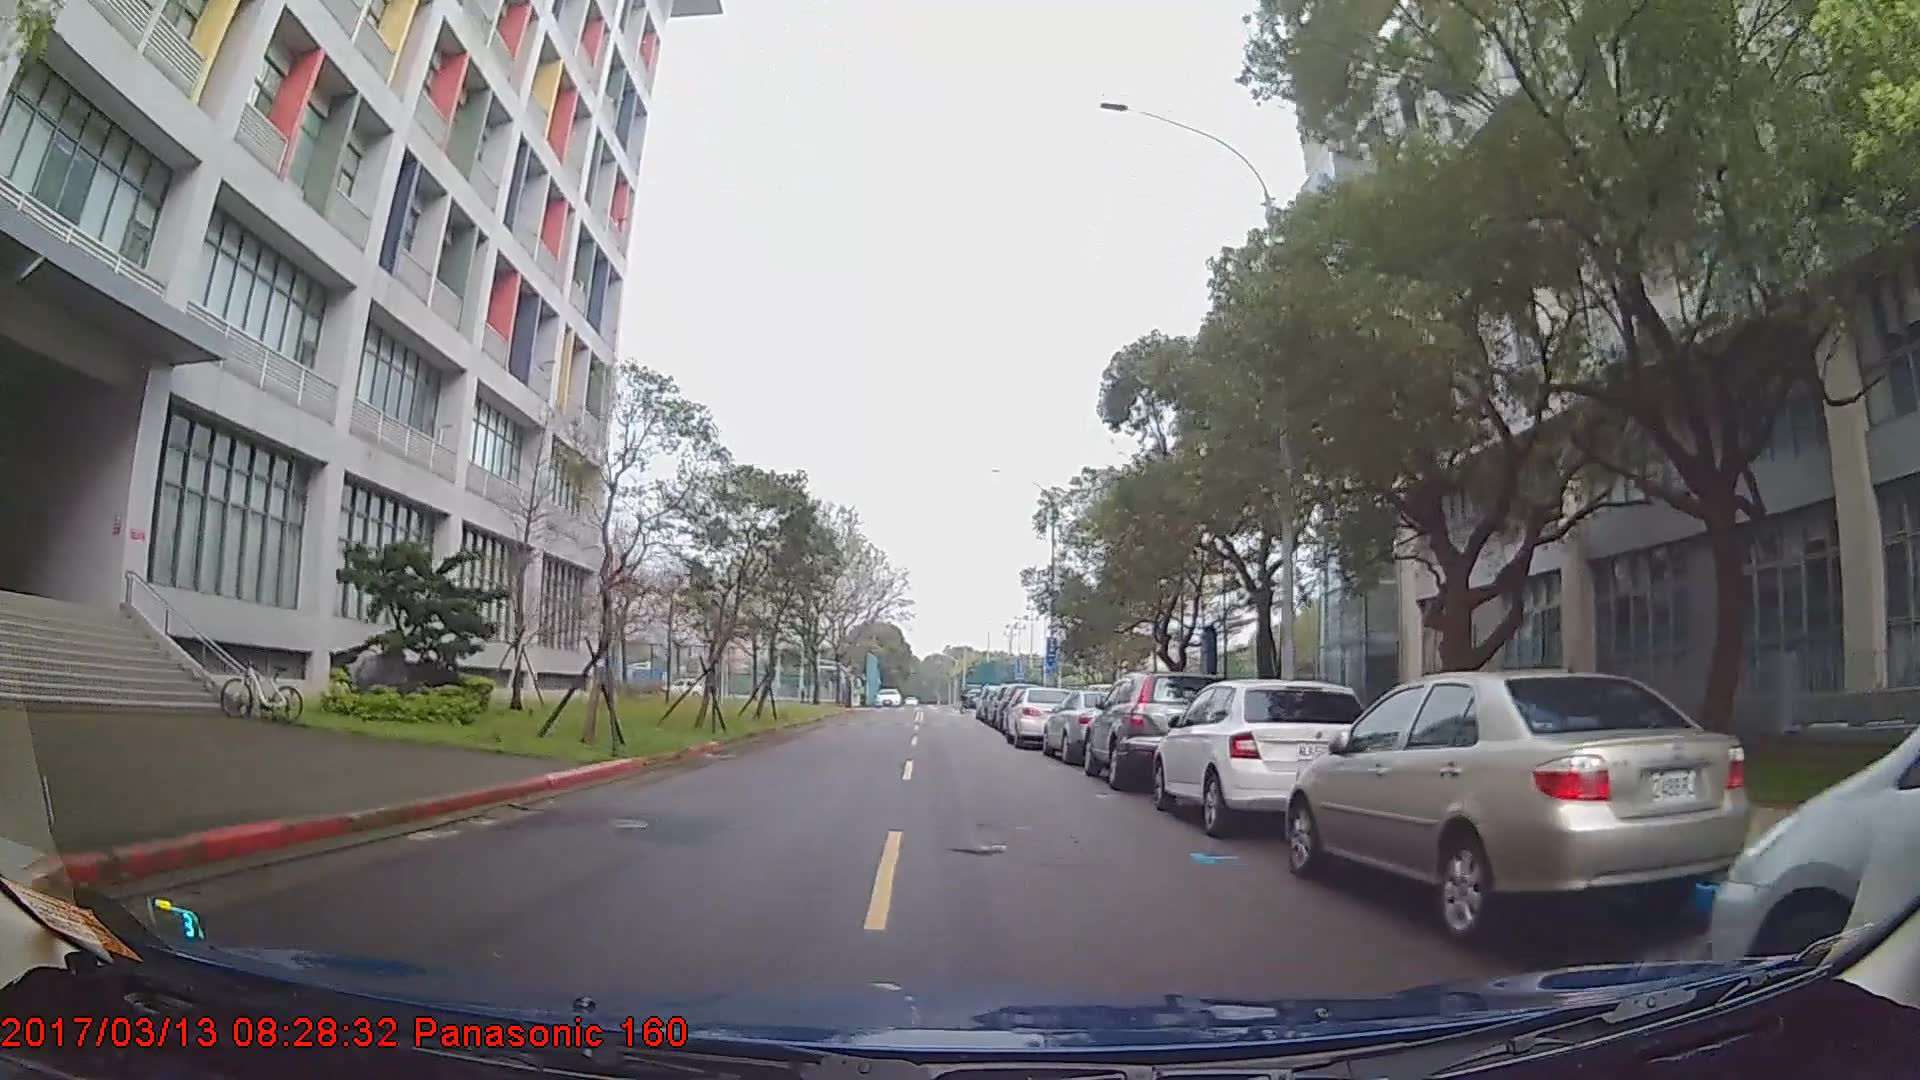vehicle: (1287, 669, 1759, 949), (1153, 678, 1375, 835), (1080, 671, 1232, 790), (1040, 686, 1135, 764), (1004, 684, 1076, 746)
